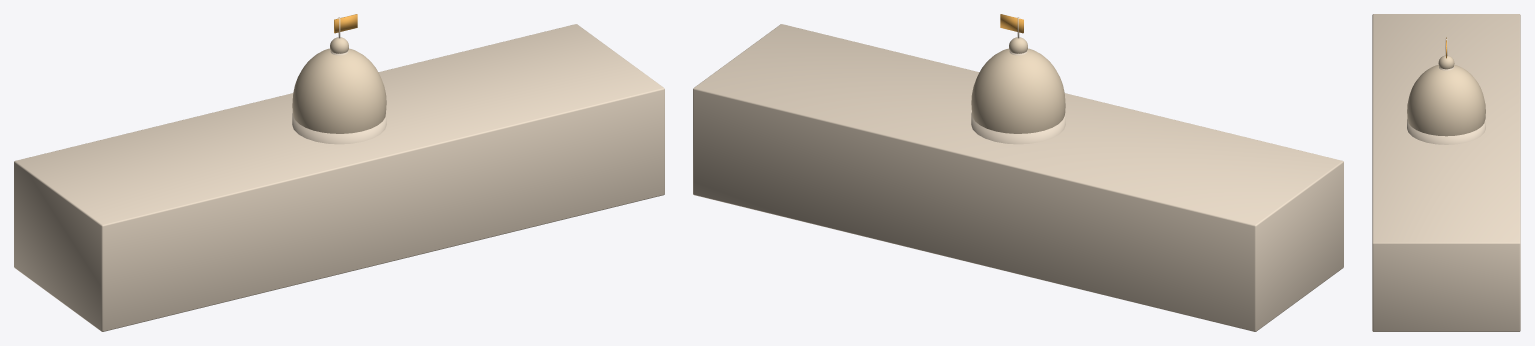
Rendered from parliament_dome.glb.
3 views of the same model, side by side, from view 1: azimuth 30°, elevation 25°; view 2: azimuth 150°, elevation 25°; view 3: azimuth 270°, elevation 25° (orthographic). The views are drawn at different scales.
Parts seen in each view (by area): view 1: BaseWings, MainDome, DomeDrum; view 2: BaseWings, MainDome, DomeDrum; view 3: BaseWings, MainDome, DomeDrum, CupolaDome.
Boxes of the visible parts, left/top/right/bottom form: BaseWings: left=14, top=24, right=664, bottom=331; MainDome: left=292, top=48, right=386, bottom=133; DomeDrum: left=292, top=112, right=386, bottom=144; BaseWings: left=693, top=24, right=1343, bottom=331; MainDome: left=971, top=48, right=1065, bottom=133; DomeDrum: left=971, top=112, right=1065, bottom=144; BaseWings: left=1372, top=14, right=1520, bottom=331; MainDome: left=1407, top=65, right=1485, bottom=136; DomeDrum: left=1407, top=119, right=1485, bottom=144; CupolaDome: left=1438, top=55, right=1454, bottom=69.
Bounding box in the file's own units: 44 × 16 × 12.
